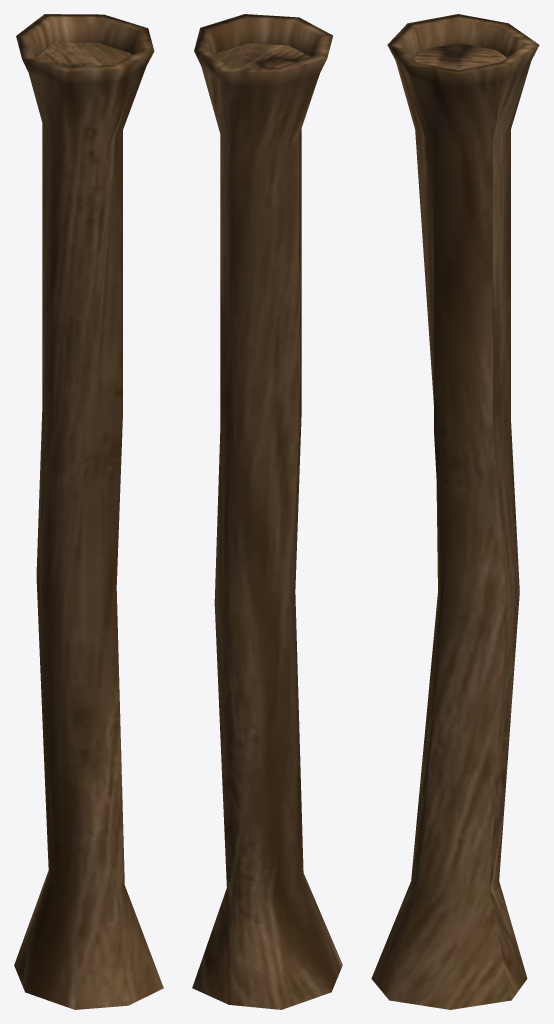
File: pm-sign-base-01.glb
3 views of the same model, side by side, from view 1: azimuth 30°, elevation 25°; view 2: azimuth 150°, elevation 25°; view 3: azimuth 270°, elevation 25° (orthographic).
Visible parts, largest first — view 1: SignBase01; view 2: SignBase01; view 3: SignBase01.
Part boxes in pixels (x1,y1,x2,y2): SignBase01: (14, 14, 163, 1009); SignBase01: (192, 14, 342, 1009); SignBase01: (371, 14, 539, 1009).
Size of the model in its own units: 0.2215 by 1.54 by 0.252.
1 material, 1 textured.
